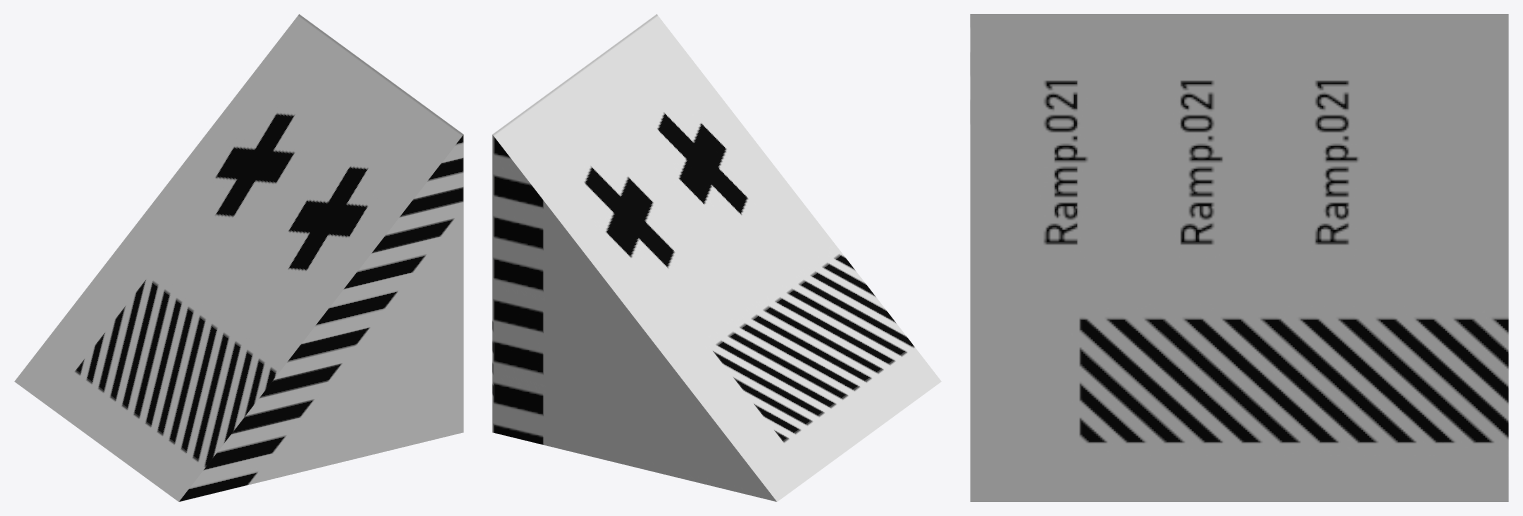
The model's file is Ramp.fbx.
3 renders of one model, left to right at view 1: azimuth 30°, elevation 25°; view 2: azimuth 150°, elevation 25°; view 3: azimuth 270°, elevation 25°, orthographic. The views are drawn at different scales.
Visible parts, largest first — view 1: Ramp; view 2: Ramp; view 3: Ramp.
Boxes of the visible parts, x1,y1,x2,y2 form: Ramp: (14, 14, 463, 501); Ramp: (492, 14, 941, 501); Ramp: (970, 14, 1508, 501).
Bounding box in the file's own units: 46.18 × 46.18 × 46.18.
